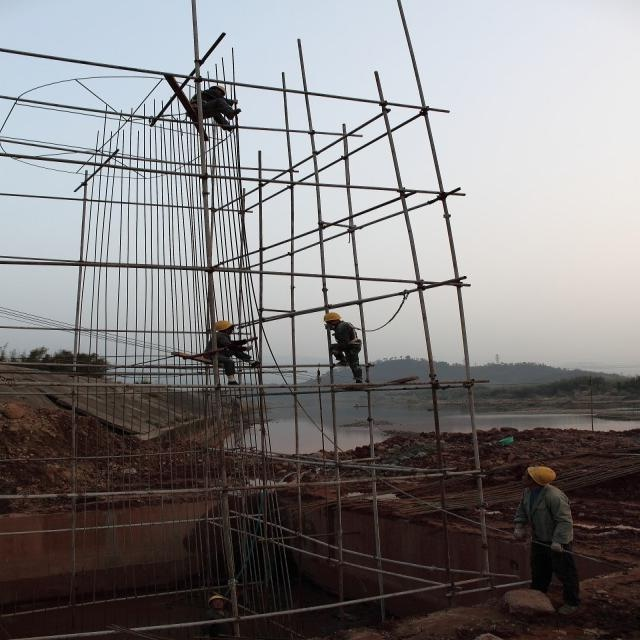Con_Casco: (520, 465, 557, 490), (216, 320, 236, 336), (323, 312, 341, 327)
